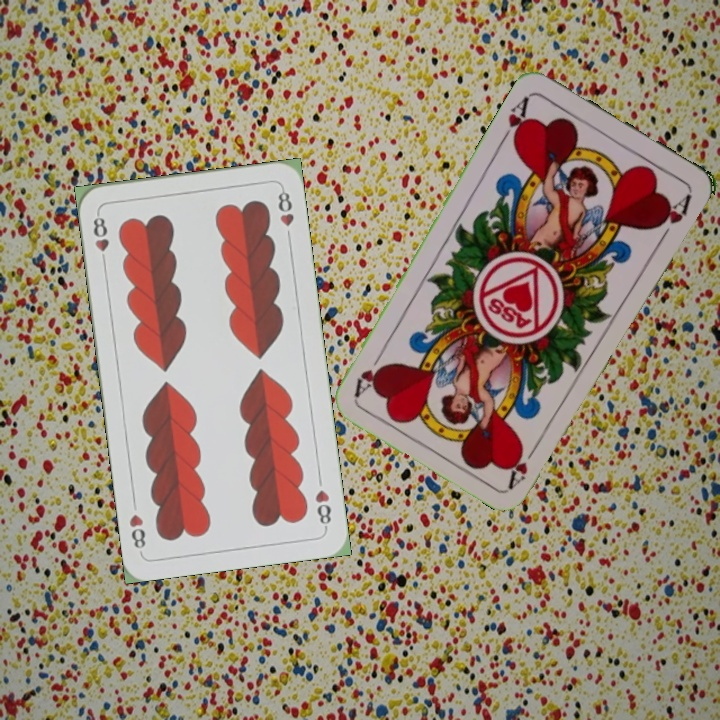H8: (89, 209, 112, 268), (311, 485, 334, 532)
HA: (504, 436, 543, 490), (496, 92, 533, 148)
